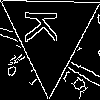K: (24, 9, 66, 44)
